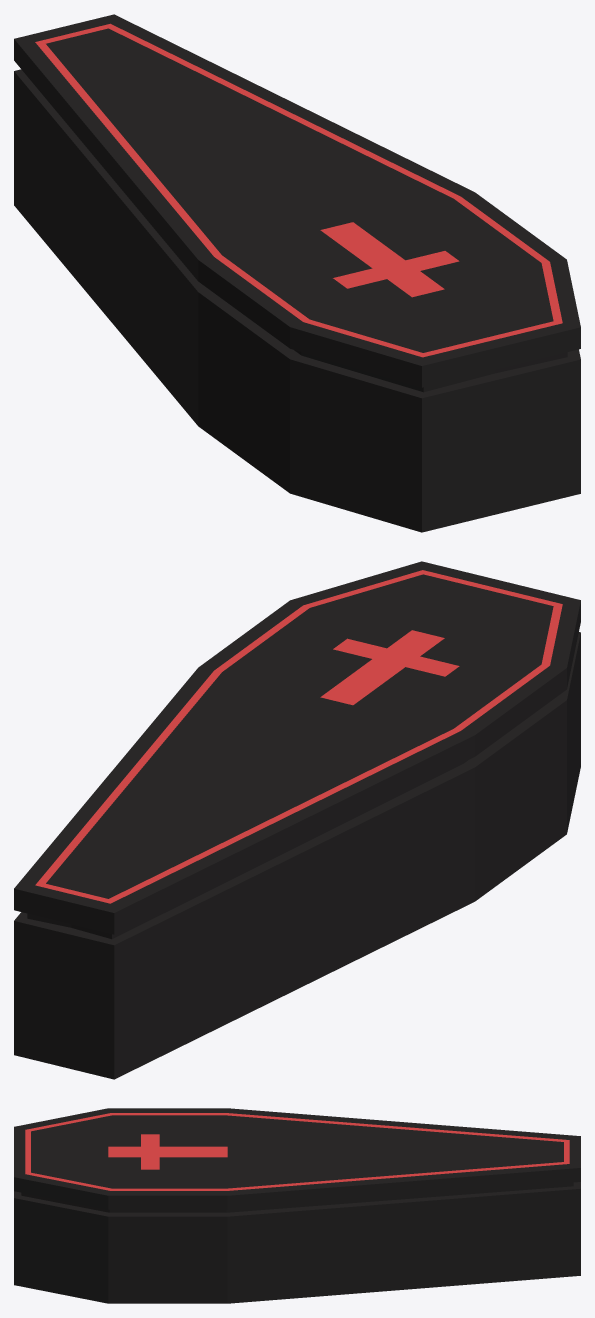
File: coffin.fbx
3 views of the same model, one above another, from view 1: azimuth 30°, elevation 25°; view 2: azimuth 150°, elevation 25°; view 3: azimuth 270°, elevation 25° (orthographic). The views are drawn at different scales.
Visible parts, largest first — view 1: Sarg; view 2: Sarg; view 3: Sarg.
Part boxes in pixels (bbox=[...]): Sarg: bbox=[14, 14, 580, 532]; Sarg: bbox=[14, 561, 580, 1079]; Sarg: bbox=[14, 1108, 580, 1303].
Bounding box in the file's own units: 174 × 100 × 476.
